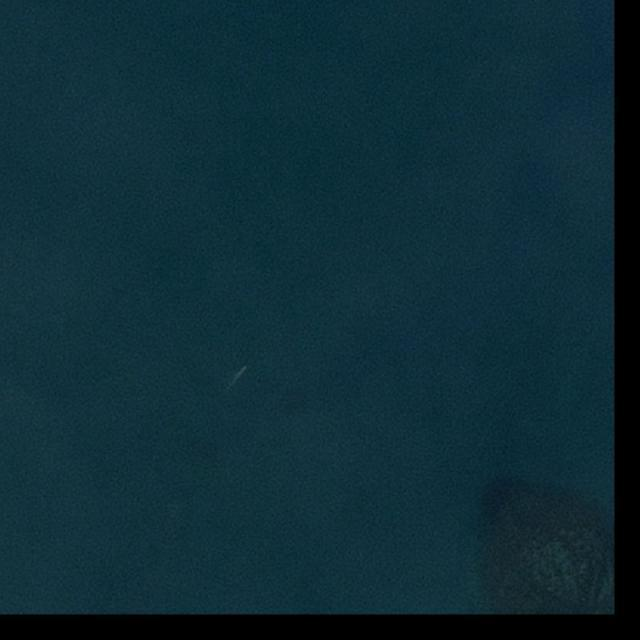ship: (241, 365, 248, 373)
